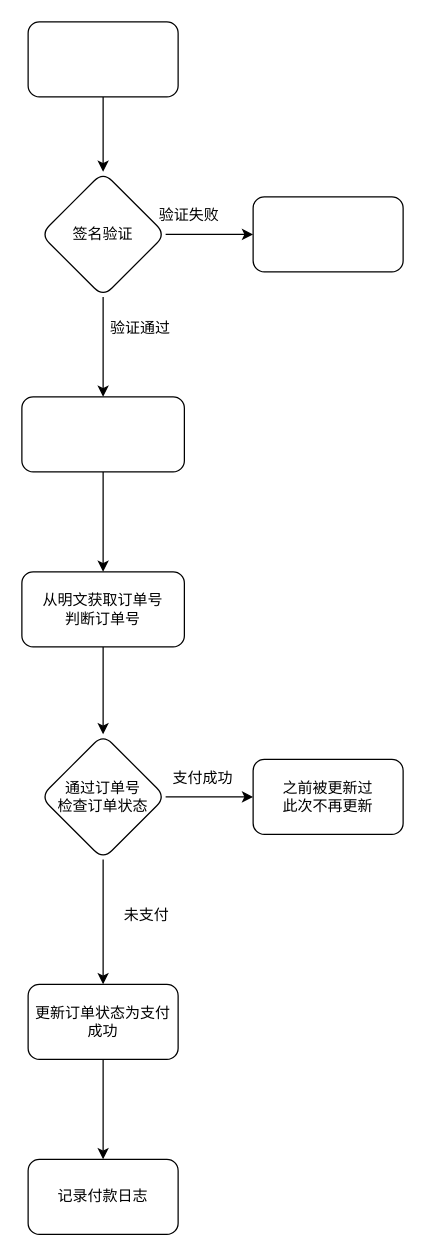
Some shapes in this 425 by 1256 pixel diagram are drawn without their labels. The shapes that lost their labels are listed below. From the top down, each one's box as (x1, y1, x2, y2) in pixels, then its label:
(27, 21, 178, 97): 支付通知回调处理
(252, 196, 403, 272): 抛出异常
(21, 396, 184, 472): 使用AesUtil对称解密工具解密密文，得到明文
